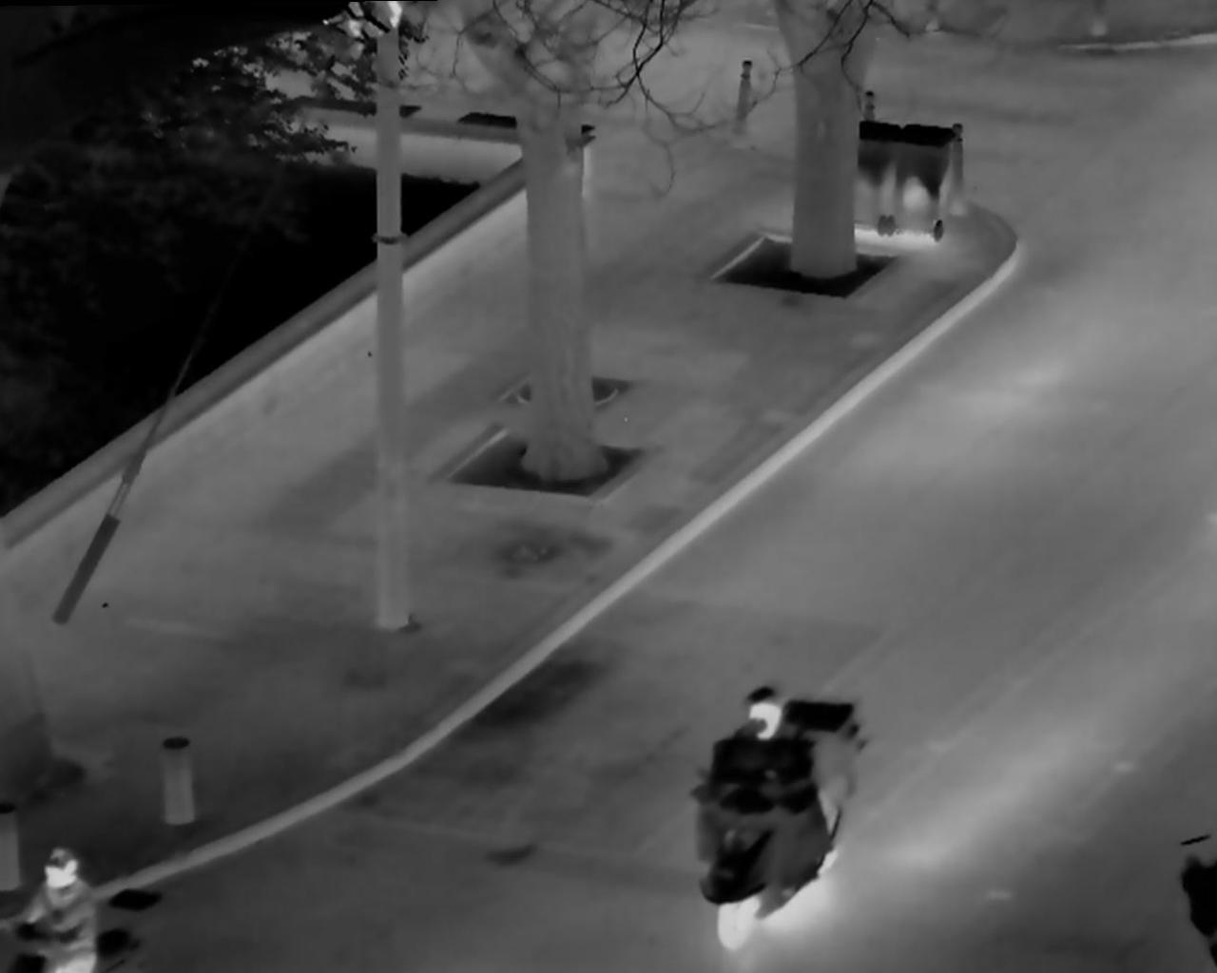person: (695, 673, 827, 893), (5, 839, 117, 973)
